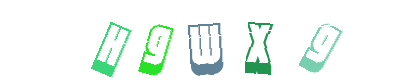G: (167, 0, 247, 80), (220, 0, 300, 80)
H: (91, 0, 171, 80)
W: (168, 0, 248, 80)
X: (218, 0, 298, 80)
